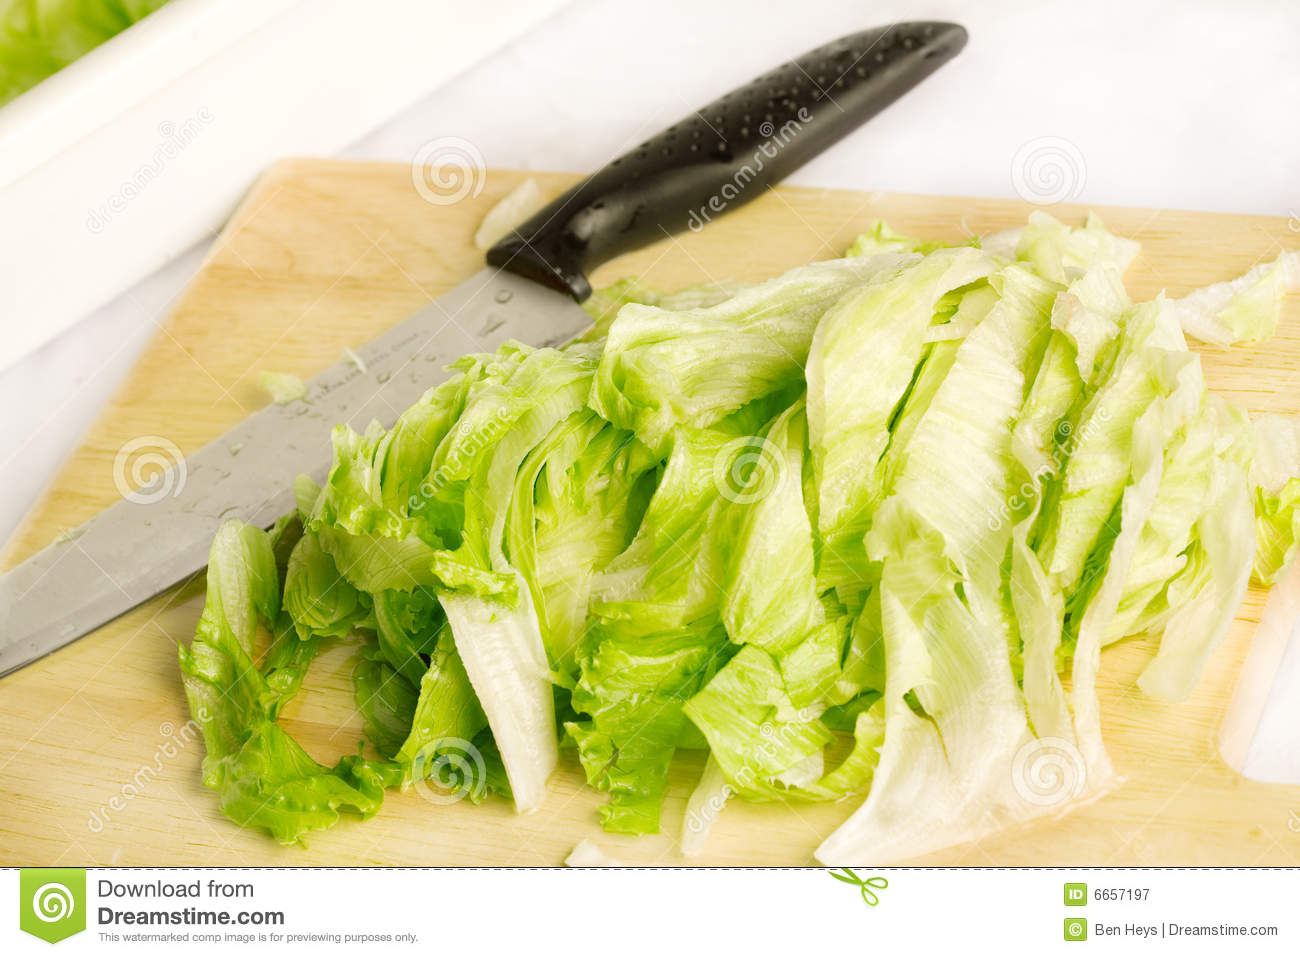chopped lettuce: (240, 374, 1177, 816)
